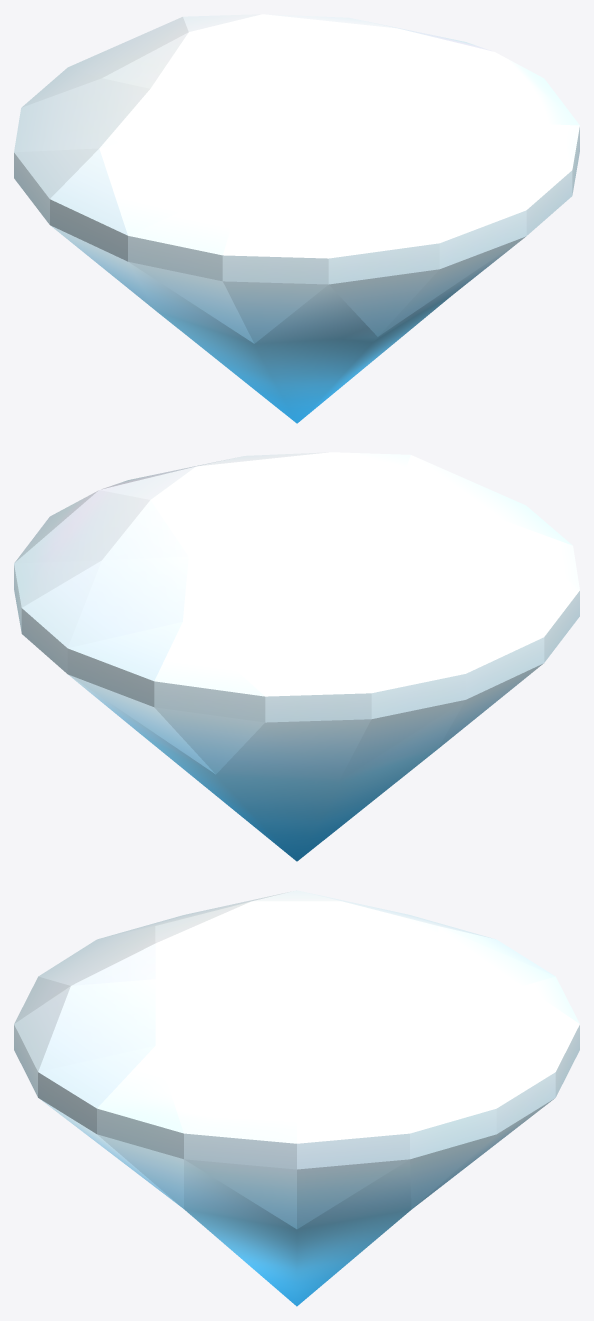
The model's file is Gem.007.glb.
The picture shows the model from 3 angles, top to bottom: view 1: azimuth 30°, elevation 25°; view 2: azimuth 150°, elevation 25°; view 3: azimuth 270°, elevation 25°; orthographic projection.
Parts seen in each view (by area): view 1: Gem.007; view 2: Gem.007; view 3: Gem.007.
Boxes of the visible parts, bbox=[...] form: Gem.007: bbox=[14, 14, 579, 423]; Gem.007: bbox=[14, 452, 579, 861]; Gem.007: bbox=[14, 890, 579, 1306].
Size of what is drawn, in the model's own units: 0.2515 by 0.1694 by 0.2515.
1 material, 1 textured.
